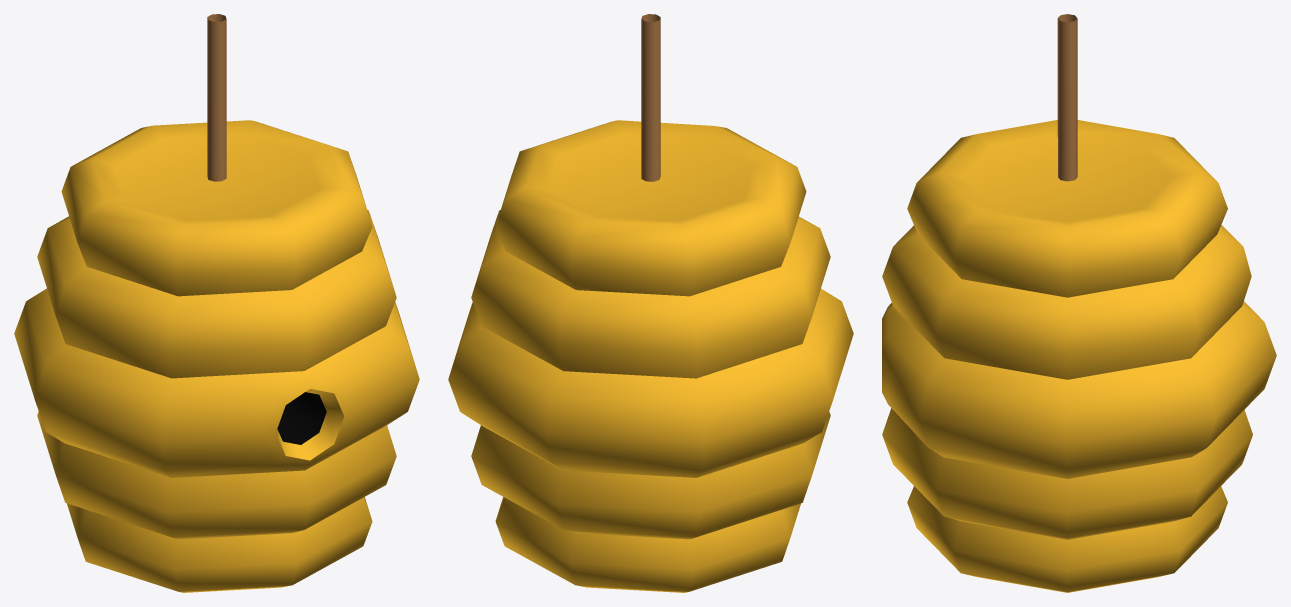
File: 9abb67ec-aec9-44af-89f1-f6b236bff85f.glb
3 views of the same model, side by side, from view 1: azimuth 30°, elevation 25°; view 2: azimuth 150°, elevation 25°; view 3: azimuth 270°, elevation 25° (orthographic).
Parts seen in each view (by area): view 1: Beehive; view 2: Beehive; view 3: Beehive.
Part boxes in pixels (left/top/right/bottom): Beehive: left=14, top=14, right=419, bottom=592; Beehive: left=448, top=14, right=853, bottom=592; Beehive: left=882, top=14, right=1276, bottom=592.
Bounding box in the file's own units: 0.2171 × 0.298 × 0.2048.
Materials: 1 (1 with a texture image).
